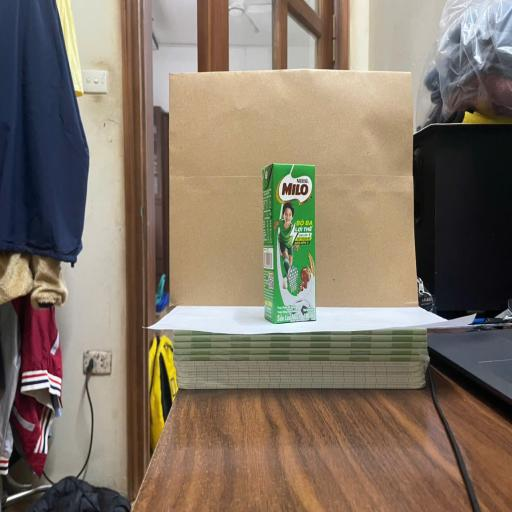milo: (263, 162, 316, 323)
